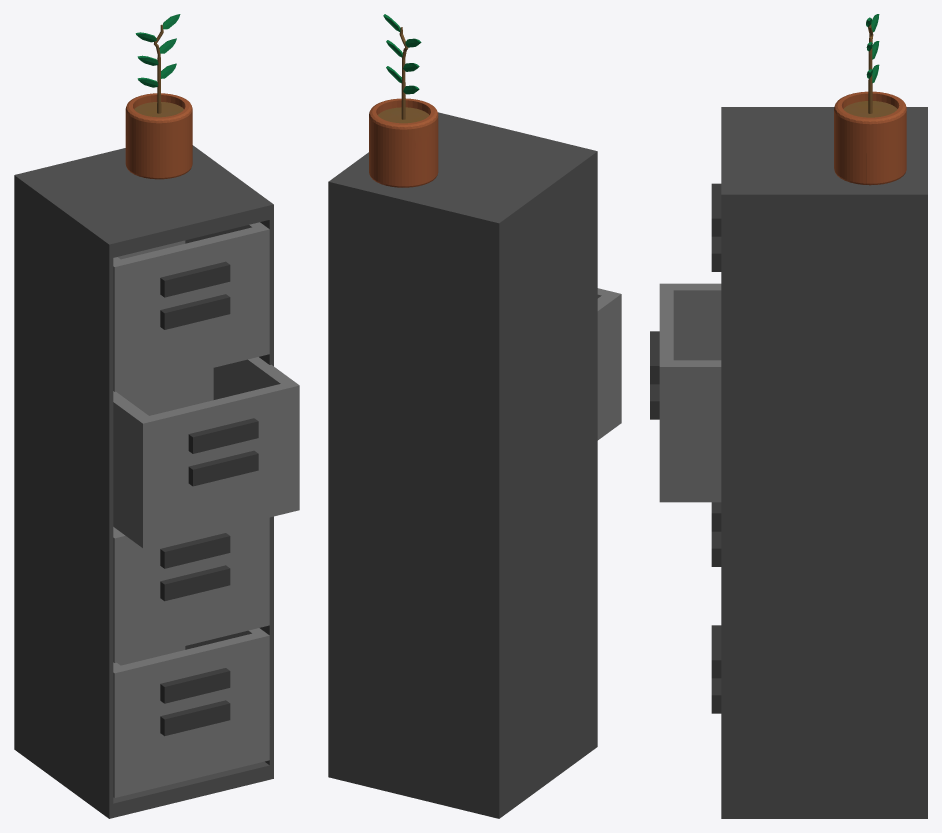
Rendered from filing-cabinet--2.gltf.
3 renders of one model, left to right at view 1: azimuth 30°, elevation 25°; view 2: azimuth 150°, elevation 25°; view 3: azimuth 270°, elevation 25°, orthographic. The views are drawn at different scales.
Visible parts, largest first — view 1: Drawers; view 2: Drawers; view 3: Drawers.
Part boxes in pixels (x1,y1,x2,y2): Drawers: (14, 14, 299, 818); Drawers: (328, 14, 621, 818); Drawers: (650, 14, 927, 818).
Bounding box in the file's own units: 0.3756 × 1.57 × 0.5047.
Materials: 1 (1 with a texture image).
